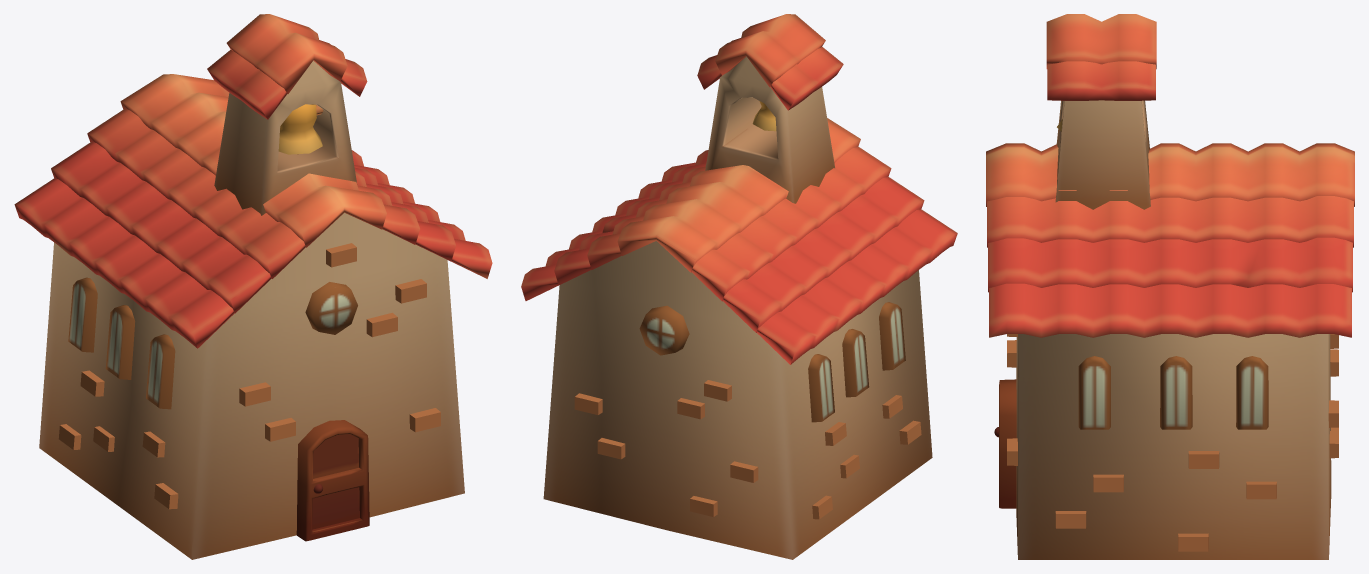
File: SM_Chapel_01_LOD1.fbx
3 renders of one model, left to right at view 1: azimuth 30°, elevation 25°; view 2: azimuth 150°, elevation 25°; view 3: azimuth 270°, elevation 25°, orthographic. The views are drawn at different scales.
Parts seen in each view (by area): view 1: SM_Chapel_01_LOD1; view 2: SM_Chapel_01_LOD1; view 3: SM_Chapel_01_LOD1.
Boxes of the visible parts, x1,y1,x2,y2 form: SM_Chapel_01_LOD1: [14, 14, 492, 559]; SM_Chapel_01_LOD1: [521, 14, 957, 559]; SM_Chapel_01_LOD1: [986, 14, 1354, 559].
Size of the model in its own units: 1090 by 1587 by 1109.
